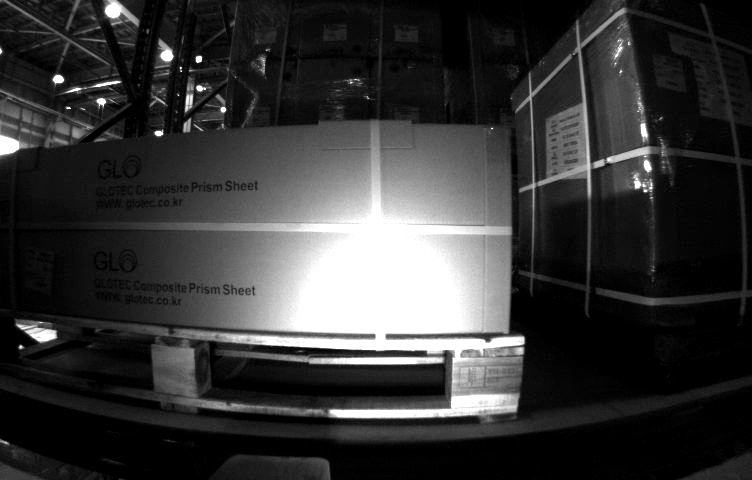True Barcode: (24, 243, 52, 292), (650, 52, 683, 90)
